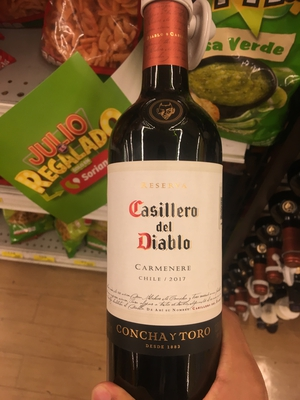casillero del diablo carmenere: (103, 22, 260, 381)
